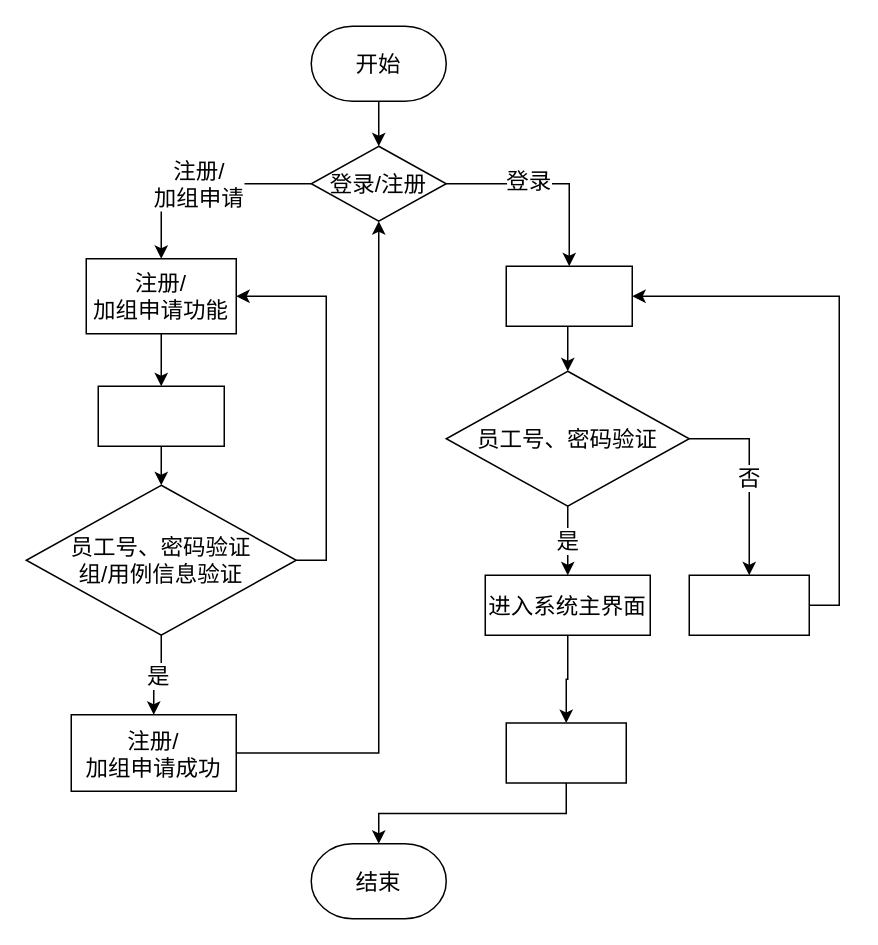
Some shapes in this 878 by 945 pixel diagram are drawn without their labels. The centre of each missing label's shape, as x and y in pixels:
"信息填写" goes at point (160, 415).
"登录功能" goes at point (568, 295).
"退出登录" goes at point (565, 752).
"错误提示" goes at point (748, 604).
